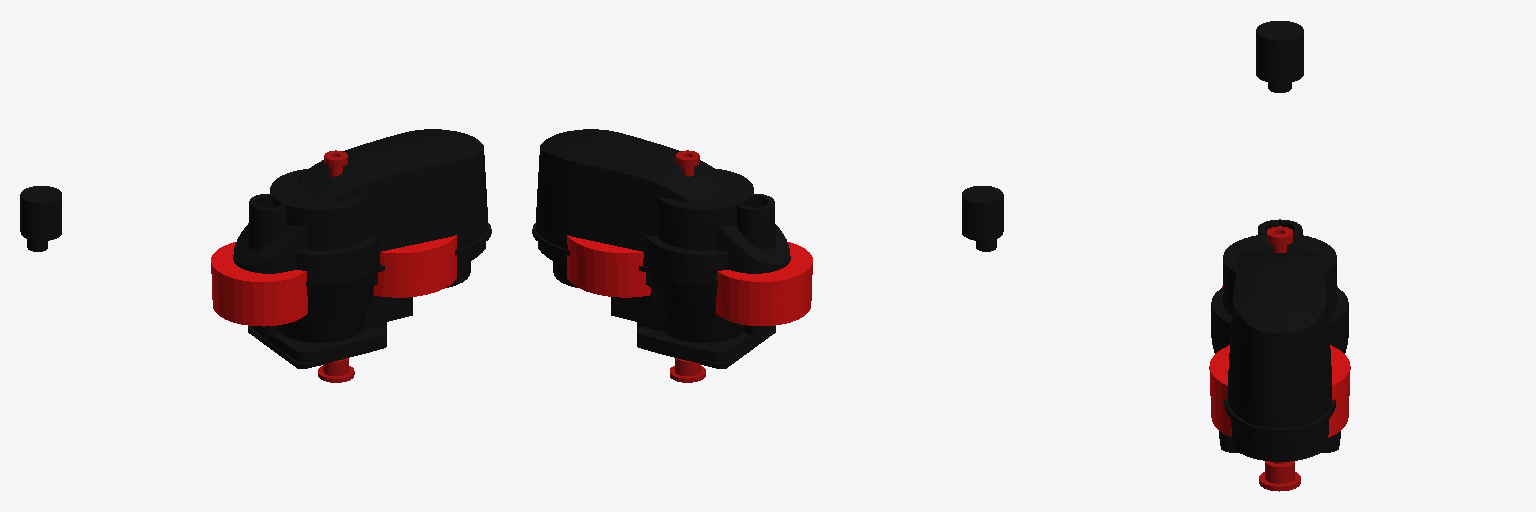
robot.urdf — sr_scara_hx:
<?xml version="1.0"?>
<robot name="sr_scara_hx">

<!--Links -->
<link name="base_link">
 <visual>
  <origin xyz="0 0 0.00158925" rpy="0 0 0" />
   <geometry>
     <mesh filename="package://robot_simulation/meshes/base_R01.stl" scale="0.001 0.001 0.001"/>  
   </geometry>
   <material name="black">
     <color rgba="0.1 0.1 0.1 1"/>
   </material>
 </visual>
 <collision>
  <origin xyz="0 0 0.00158925" rpy="0 0 0" />
   <geometry>
     <mesh filename="package://robot_simulation/meshes/base_R01.stl" scale="0.001 0.001 0.001"/>  
   </geometry>
 </collision>  
</link>

<link name="link1">
 <visual>
  <origin xyz="0 0 0" rpy="0 0 0" />
   <geometry>
     <mesh filename="package://robot_simulation/meshes/arm_link_R01.stl" scale="0.001 0.001 0.001"/>  
   </geometry>
   <material name="red">
     <color rgba="0.9 0.1 0.1 1"/>
   </material>
 </visual>
 <collision>
  <origin xyz="0 0 0" rpy="0 0 0" />
   <geometry>
     <mesh filename="package://robot_simulation/meshes/arm_link_R01.stl" scale="0.001 0.001 0.001"/>  
   </geometry>
 </collision>
</link>

<link name="link2">
 <visual>
  <origin xyz="0.300 0 0" rpy="0 0 0" />
   <geometry>
     <mesh filename="package://robot_simulation/meshes/head_link_R01.stl" scale="0.001 0.001 0.001"/>  
   </geometry>
   <material name="black">
     <color rgba="0.1 0.1 0.1 1"/>
   </material>
 </visual>
 <collision>
  <origin xyz="0.300 0 0" rpy="0 0 0" />
   <geometry>
     <mesh filename="package://robot_simulation/meshes/head_link_R01.stl" scale="0.001 0.001 0.001"/>  
   </geometry>
  </collision>
</link>

<link name="probe">
 <visual>
  <origin xyz="0 0 0" rpy="0 0 0" />
  <geometry>
     <mesh filename="package://robot_simulation/meshes/End_link_R01.stl" scale="0.001 0.001 0.001"/>  
  </geometry>
  <material name="red">
     <color rgba="0.7 0.1 0.1 1"/>
  </material>
 </visual>
 <collision>
  <origin xyz="0 0 0" rpy="0 0 0" />
  <geometry>
     <mesh filename="package://robot_simulation/meshes/End_link_R01.stl" scale="0.001 0.001 0.001"/>  
  </geometry>
 </collision>
</link>

<link name="gripper">
 <visual> 
  <origin xyz="0 0 0" rpy="0 0 0"/>
  <geometry>
  <cylinder length="0.08" radius="0.04"/>
  </geometry>
  <material name="black"/>
 </visual> 
 <collision>
  <origin xyz="0 0 0" rpy="0 0 0"/>
  <geometry>
  <cylinder length="0.08" radius="0.04"/>
  </geometry>
 </collision>
 <inertial>
     <origin xyz="0 0 0" rpy="0 0 0"/>
     <mass value="0.3"/>
     <inertia
         ixx="1.0" ixy="1.0" ixz="1.0" 
	 iyy="1.0" iyz="1.0"
	 izz="1.0"/>
 </inertial>
</link>

<link name="gripper_end_effector">
 <visual> 
  <origin xyz="0 0 0" rpy="0 0 0"/>
  <geometry>
  <cylinder length="0.04" radius="0.02"/>
  </geometry>
  <material name="black"/>
 </visual>
 <collision>
  <origin xyz="0 0 0" rpy="0 0 0"/>
  <geometry>
  <cylinder length="0.001" radius="0.004"/>
  </geometry>
 </collision>
 <inertial>
     <origin xyz="0 0 0" rpy="0 0 0"/>
     <mass value="0.3"/>
     <inertia
         ixx="1.0" ixy="1.0" ixz="1.0" 
	 iyy="1.0" iyz="1.0"
	 izz="1.0"/>
 </inertial>
</link>

<!-- Joints -->

<joint name="joint1" type="revolute">
  <axis xyz="0 0 1" /> 
  <limit effort="3.0" velocity="0.01" lower="-2.617" upper="2.617"/>
  <origin xyz="0 0 0.00158925" rpy="0 0 0" />
  <parent link="base_link" />
  <child link="link1" />
</joint>

<joint name="joint2" type="revolute">
 <axis xyz="0 0 1" /> 
 <limit effort="3.0" velocity="0.01" lower="-2.617" upper="2.617"/>
 <origin xyz="-0.3 0 0" rpy="0 0 0" />
 <parent link="link1" />
 <child link="link2" />
</joint>

<joint name="joint3" type="prismatic">
 <axis xyz="0 0 1" /> 
 <limit effort="3.0" velocity="0.01" lower="-0.1" upper="0.05"/>
 <origin xyz="0.3 0 0" rpy="0 0 0" />
 <parent link="link2" />
 <child link="probe" />
</joint>

<joint name ="joint4" type="fixed">
 <origin xyz="-0.65 0 0.26" rpy="0 0 0"/>
 <parent link = "probe"/>
 <child link = "gripper"/>
</joint>

<joint name ="joint5" type="fixed">
 <origin xyz="-0.008 0 -0.05" rpy="0 0 0"/>
 <parent link = "gripper"/>
 <child link = "gripper_end_effector"/>
</joint>


<!-- Joints 
<joint name ="gripper_con" type="revolute">
 <axis xyz="0 0 1" /> 
 <limit effort="3.0" velocity="0.01" lower="-3" upper="3"/>
 <origin rpy="0 0 0" xyz="0 0 0"/>
 <parent link = "probe"/>
 <child link = "gripper_base" />
</joint>
-->

<!-- Transmissions -->

<transmission name="tran1">
  <type>transmission_interface/SimpleTransmission</type>
    <joint name="joint1">
      <hardwareInterface>PositionJointInterface</hardwareInterface>
    </joint>
    <actuator name="motor1">
      <hardwareInterface>PositionJointInterface</hardwareInterface>
      <mechanicalReduction>1</mechanicalReduction>
    </actuator>
</transmission>

<transmission name="tran2">
   <type>transmission_interface/SimpleTransmission</type>
    <joint name="joint2">
      <hardwareInterface>PositionJointInterface</hardwareInterface>
    </joint>
    <actuator name="motor2">
      <hardwareInterface>PositionJointInterface</hardwareInterface>
      <mechanicalReduction>1</mechanicalReduction>
    </actuator>
</transmission>

<transmission name="tran3">
   <type>transmission_interface/SimpleTransmission</type>
    <joint name="joint3">
      <hardwareInterface>PositionJointInterface</hardwareInterface>
    </joint>
    <actuator name="motor3">
      <hardwareInterface>PositionJointInterface</hardwareInterface>
      <mechanicalReduction>1</mechanicalReduction>
    </actuator>
</transmission>

</robot> 

--- Facts derived from the render (not from the file) ---
Views: 3 orthographic renders of the robot side by side, from view 1: azimuth 30°, elevation 25°; view 2: azimuth 150°, elevation 25°; view 3: azimuth 270°, elevation 25°.
Robot: sr_scara_hx — 6 links, 5 joints (2 revolute, 1 prismatic, 2 fixed); root link base_link; default pose: all joints at 0.
Links seen in each view (by area): view 1: link2, base_link, link1, gripper, probe; view 2: link2, base_link, link1, gripper, probe; view 3: link2, base_link, link1, gripper, probe.
Link boxes in pixels (left/top/right/bottom): link2: left=233, top=129, right=491, bottom=335; base_link: left=248, top=169, right=412, bottom=368; link1: left=211, top=235, right=456, bottom=326; gripper: left=20, top=186, right=61, bottom=240; probe: left=318, top=150, right=354, bottom=382; link2: left=532, top=129, right=790, bottom=335; base_link: left=611, top=169, right=775, bottom=368; link1: left=567, top=235, right=812, bottom=325; gripper: left=962, top=186, right=1003, bottom=240; probe: left=670, top=150, right=705, bottom=382; link2: left=1224, top=219, right=1335, bottom=461; base_link: left=1211, top=234, right=1348, bottom=452; link1: left=1209, top=286, right=1350, bottom=437; gripper: left=1256, top=21, right=1303, bottom=83; probe: left=1259, top=226, right=1300, bottom=491.
Size in the robot's own frame: 1.02 by 0.2366 by 0.5323 metres.
4 mesh visuals loaded from 4 distinct referenced files (4 binary STL).